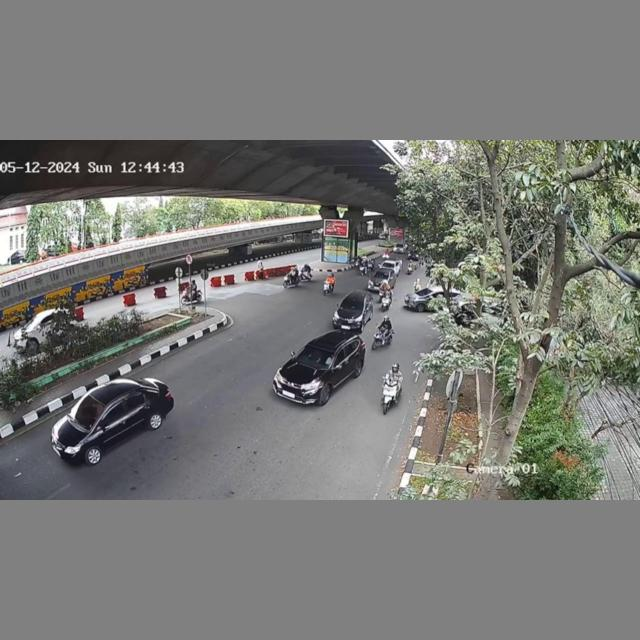windshield: (69, 394, 108, 428), (294, 345, 335, 368), (338, 298, 364, 311)
